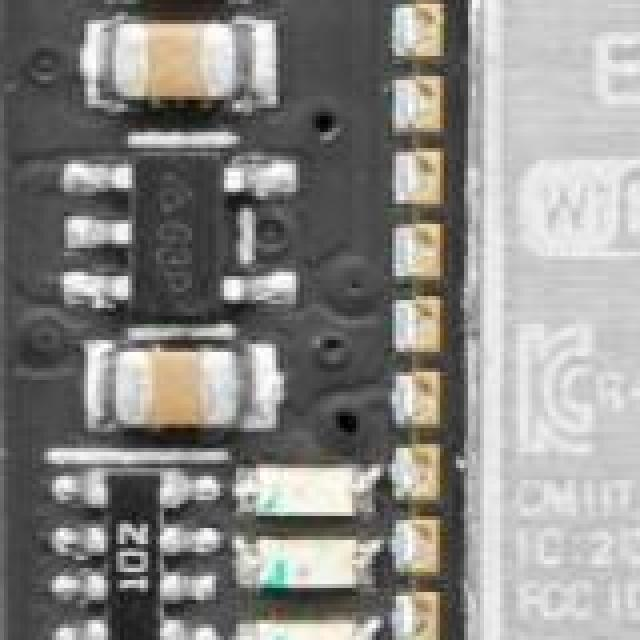IC: (452, 0, 640, 640), (104, 144, 258, 314)
LED: (252, 464, 368, 528), (248, 540, 364, 600), (240, 624, 364, 640)
capacitor: (112, 12, 254, 106), (104, 336, 242, 428)
resistor: (64, 460, 204, 640)
